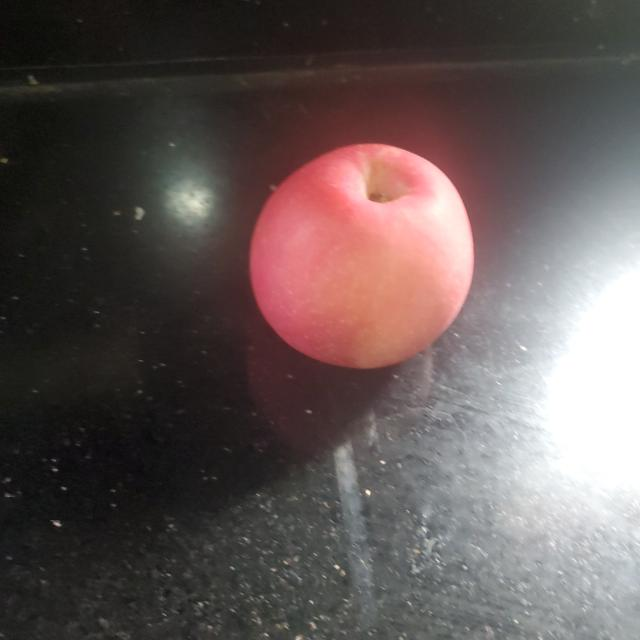apple: (252, 147, 478, 372)
